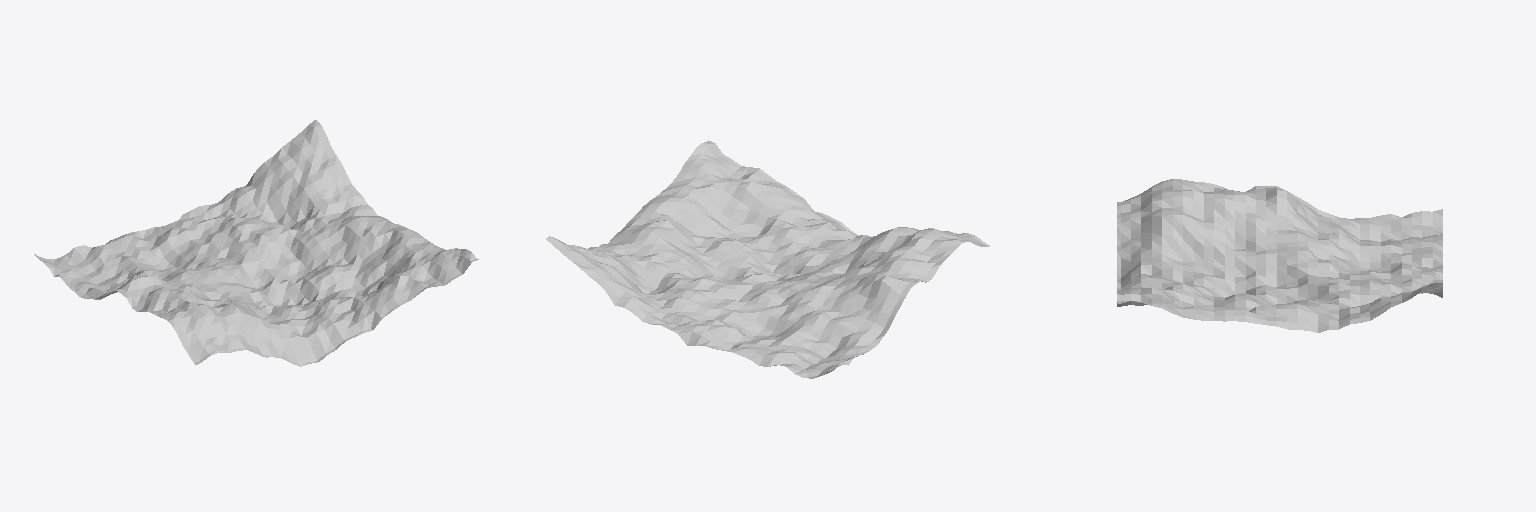
Rendered from heightmap.030.obj.
The picture shows the model from 3 angles: view 1: azimuth 30°, elevation 25°; view 2: azimuth 150°, elevation 25°; view 3: azimuth 270°, elevation 25°; orthographic projection.
Parts seen in each view (by area): view 1: heightmap.030_Plane.030; view 2: heightmap.030_Plane.030; view 3: heightmap.030_Plane.030.
Boxes of the visible parts, x1=… form: heightmap.030_Plane.030: x1=34, y1=120, x2=478, y2=366; heightmap.030_Plane.030: x1=546, y1=140, x2=989, y2=378; heightmap.030_Plane.030: x1=1117, y1=179, x2=1442, y2=332.
Bounding box in the file's own units: 32 × 9.16 × 32.